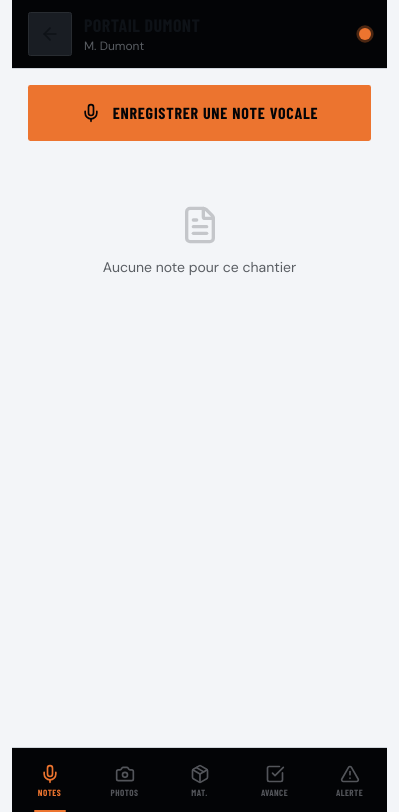
Test: Interface terrain (ouvrier) — viewport 375px › Navigation par onglets (page projet) › bascule vers Avancement en 1 tap
Click the button with test id "tab-avancement" at coordinates (275, 780), box [237, 748, 312, 811]
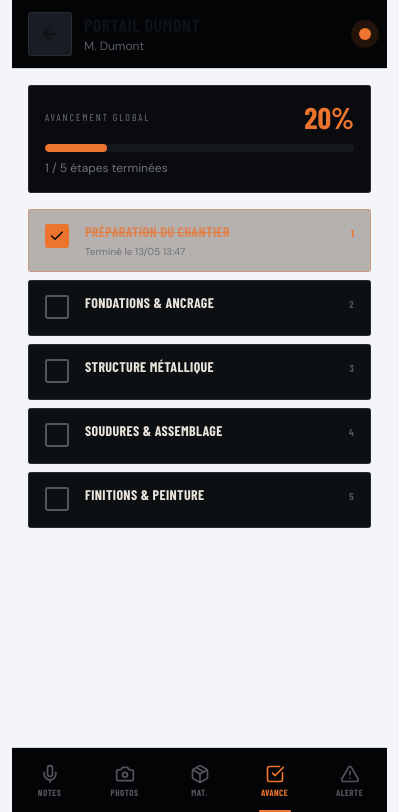
Now the button with test id "step-1" is shown, box [28, 209, 371, 272]
